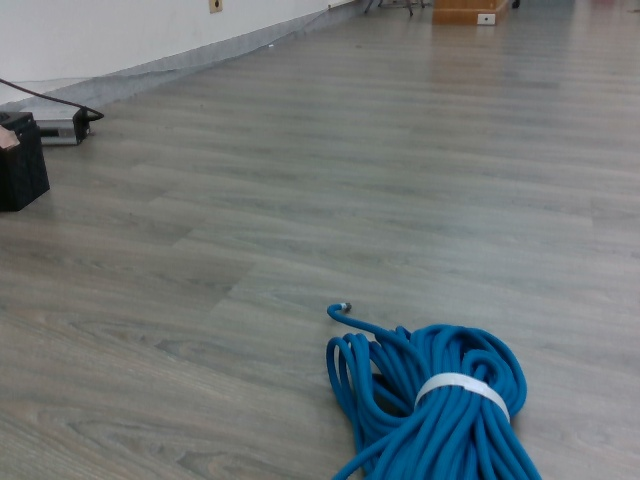rope: (319, 295, 551, 480)
